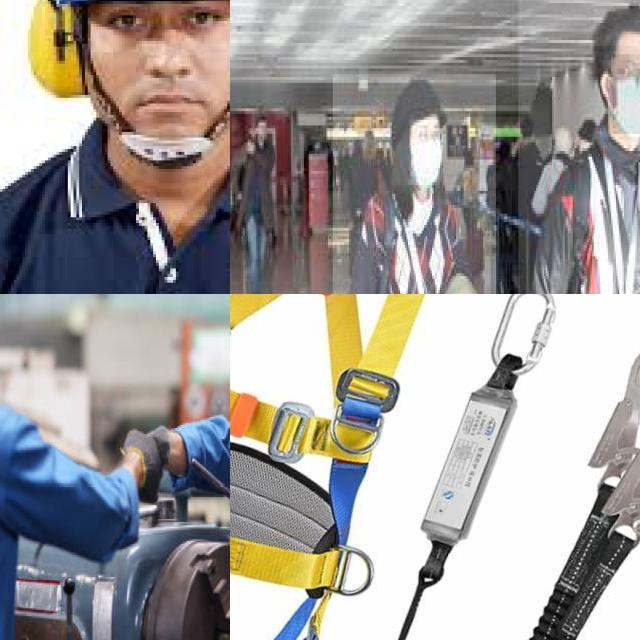Ear-protection: (25, 0, 90, 95)
Harness: (230, 294, 425, 575)
face_mask: (612, 54, 640, 136), (409, 120, 442, 188)
face_nomask: (258, 122, 267, 136)
hand_glove: (123, 427, 170, 503)
head_nohelmet: (400, 77, 453, 123), (593, 8, 640, 48)
person: (332, 74, 497, 294), (518, 0, 640, 294)
